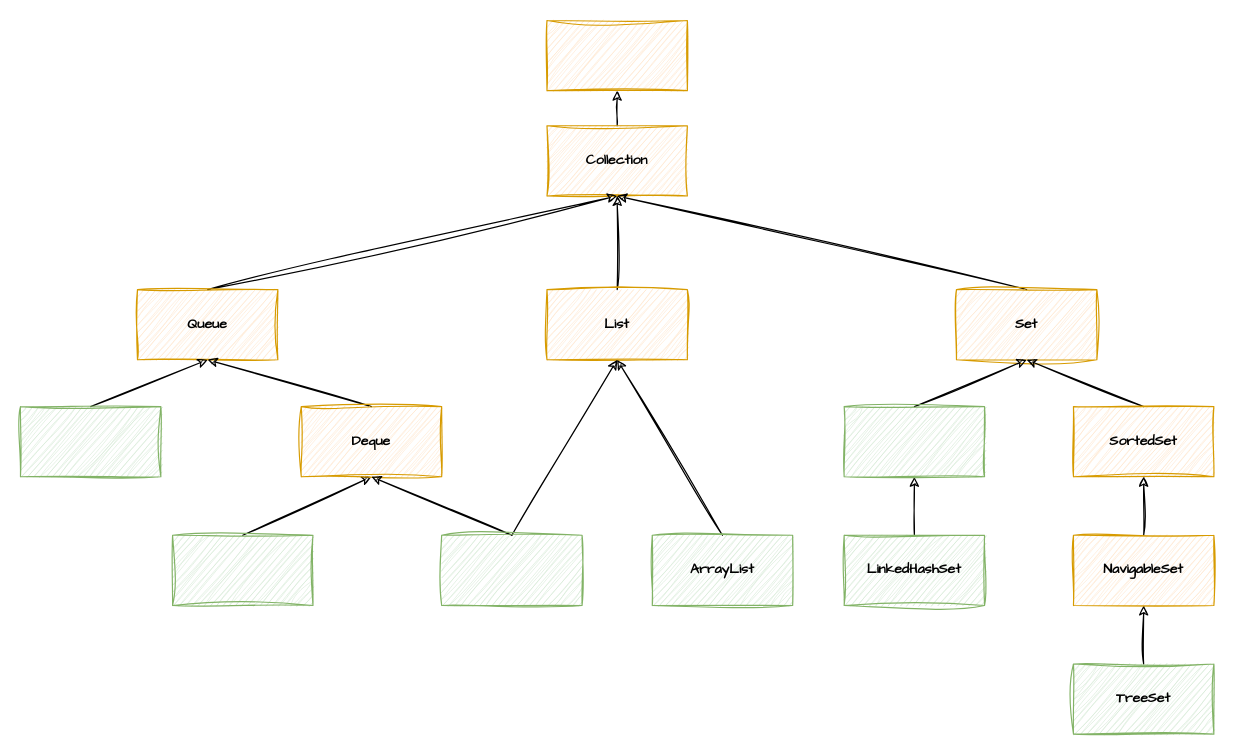
Image size: 1234x755. Some labels were removed from this diagram. Here are the shapes that lost their labels. From the top down, the centre of each, then its label:
the point at 616,55: Iterable
the point at 90,441: PriorityQueue
the point at 914,441: HashSet
the point at 242,569: ArrayQueue
the point at 511,569: LinkedList
